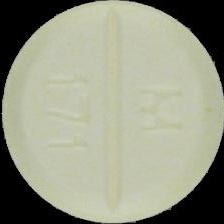51079-813: (0, 0, 224, 224)
